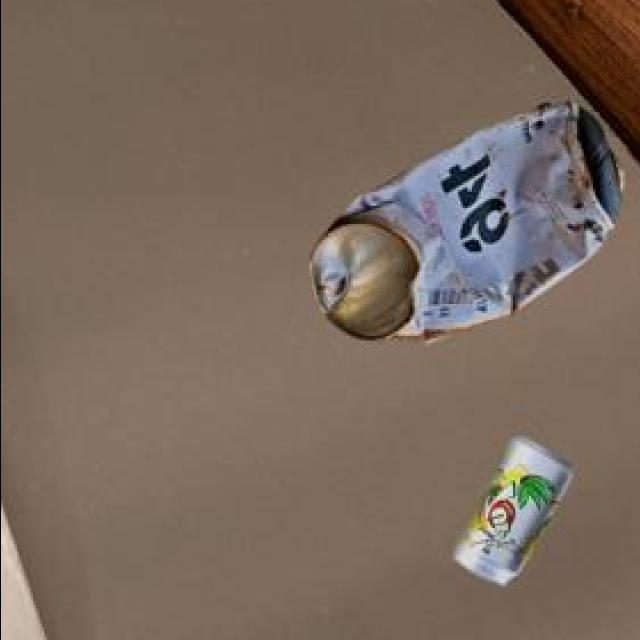logam: (305, 99, 621, 339), (451, 433, 568, 582)
